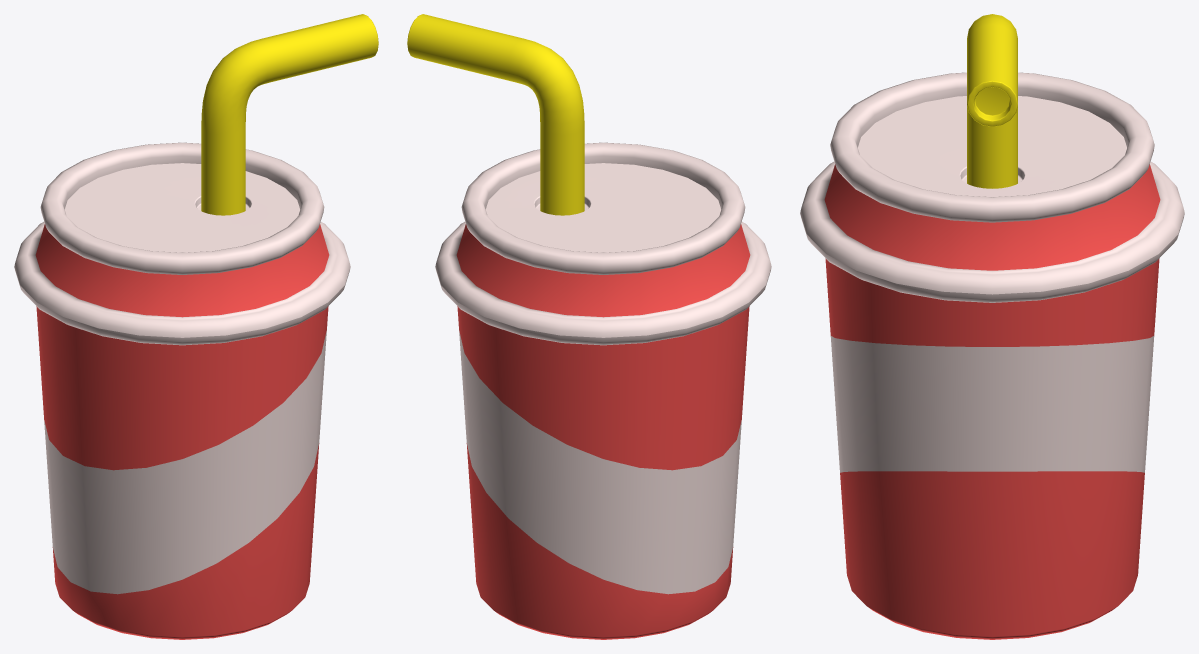
The model's file is Store_12_Drink_1.glb.
3 views of the same model, side by side, from view 1: azimuth 30°, elevation 25°; view 2: azimuth 150°, elevation 25°; view 3: azimuth 270°, elevation 25° (orthographic). The views are drawn at different scales.
Visible parts, largest first — view 1: Store_12_Drink_1; view 2: Store_12_Drink_1; view 3: Store_12_Drink_1.
Part boxes in pixels (x1,y1,x2,y2): Store_12_Drink_1: (14,14,378,639); Store_12_Drink_1: (407,14,771,639); Store_12_Drink_1: (800,14,1184,639).
Bounding box in the file's own units: 5.03 × 7.67 × 4.43.
Materials: 1 (1 with a texture image).
